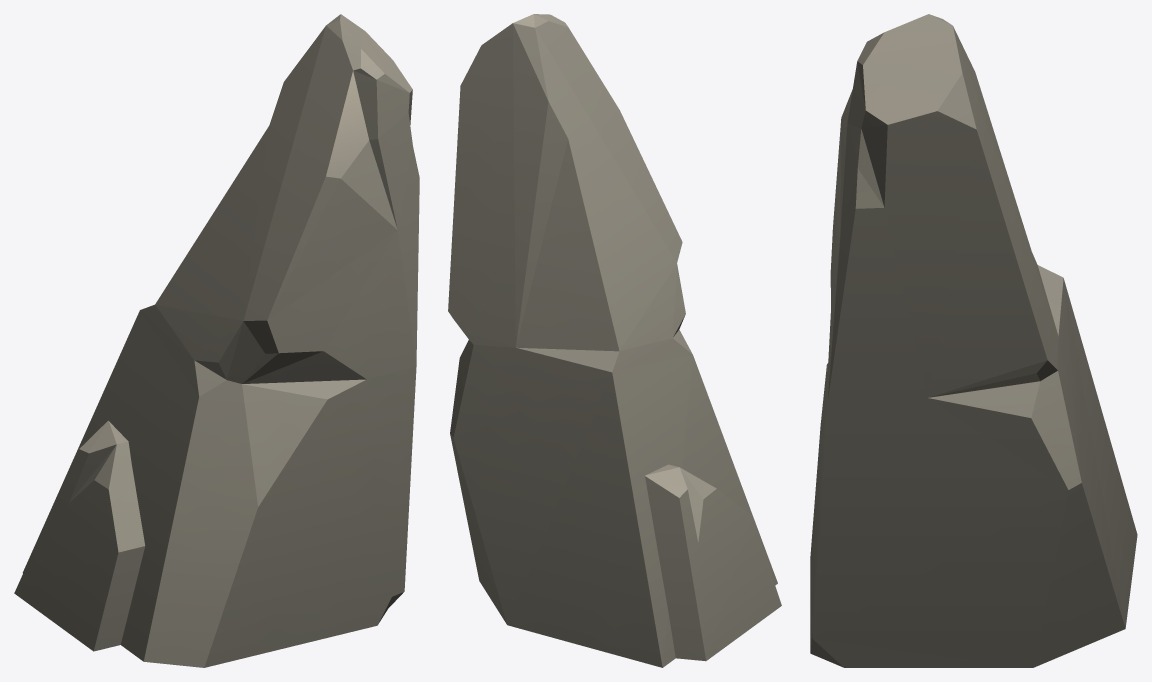
The model's file is Rock_Sharp_3A.fbx.
3 renders of one model, left to right at view 1: azimuth 30°, elevation 25°; view 2: azimuth 150°, elevation 25°; view 3: azimuth 270°, elevation 25°, orthographic. The views are drawn at different scales.
Visible parts, largest first — view 1: Rock_Sharp_3A; view 2: Rock_Sharp_3A; view 3: Rock_Sharp_3A.
Part boxes in pixels (left/top/right/bottom): Rock_Sharp_3A: left=14, top=14, right=419, bottom=667; Rock_Sharp_3A: left=448, top=14, right=781, bottom=667; Rock_Sharp_3A: left=810, top=14, right=1137, bottom=667.
Size of the model in its own units: 2.61 by 4.53 by 2.08.
